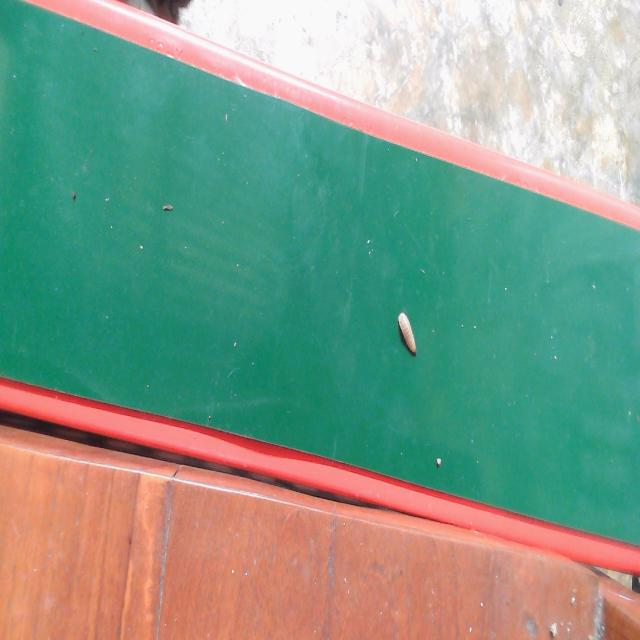Maggot: (397, 314, 419, 359)
